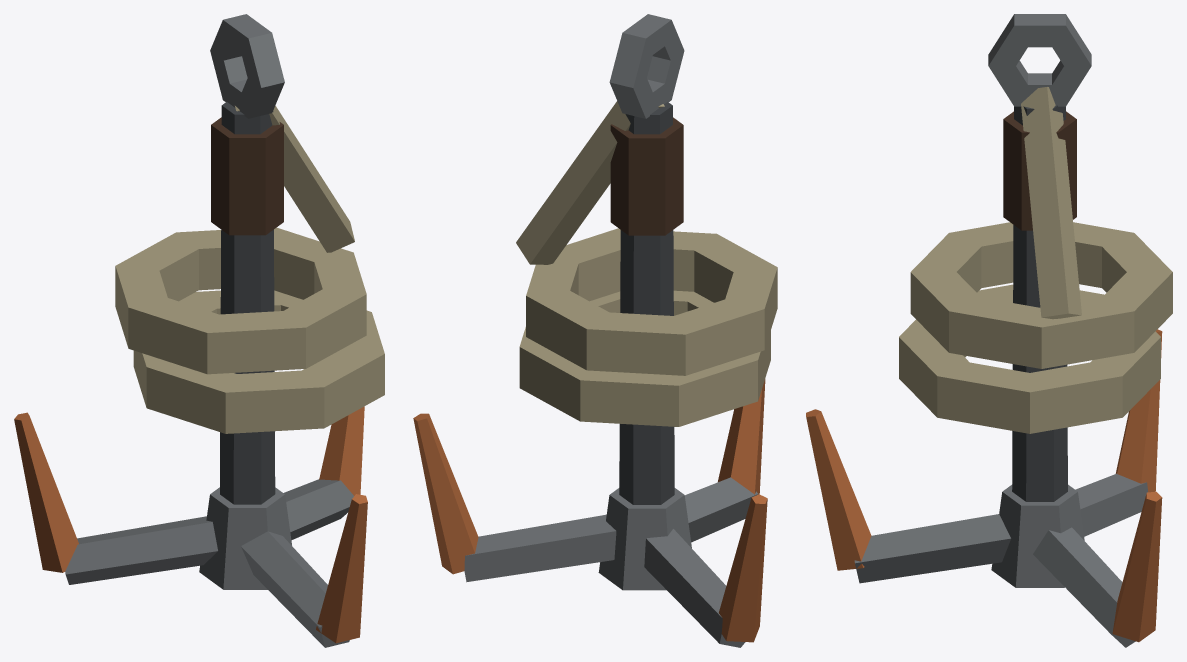
The model's file is item_grappling_hook.glb.
3 views of the same model, side by side, from view 1: azimuth 30°, elevation 25°; view 2: azimuth 150°, elevation 25°; view 3: azimuth 270°, elevation 25° (orthographic).
Parts seen in each view (by area): view 1: grappling_hook; view 2: grappling_hook; view 3: grappling_hook.
Boxes of the visible parts, x1=… form: grappling_hook: x1=14, y1=14, x2=384, y2=647; grappling_hook: x1=413, y1=14, x2=777, y2=647; grappling_hook: x1=806, y1=14, x2=1172, y2=647.
Size of the model in its own units: 0.3785 by 0.5725 by 0.339.
